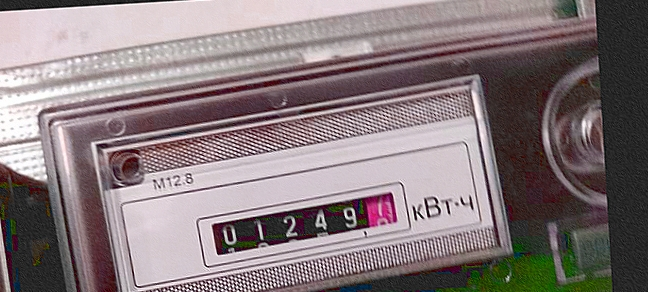0: (217, 218, 238, 245)
1: (249, 215, 265, 241)
2: (279, 211, 300, 238)
4: (310, 203, 330, 231)
7: (370, 192, 386, 217)
9: (339, 201, 359, 227)
screen: (188, 182, 425, 270)
